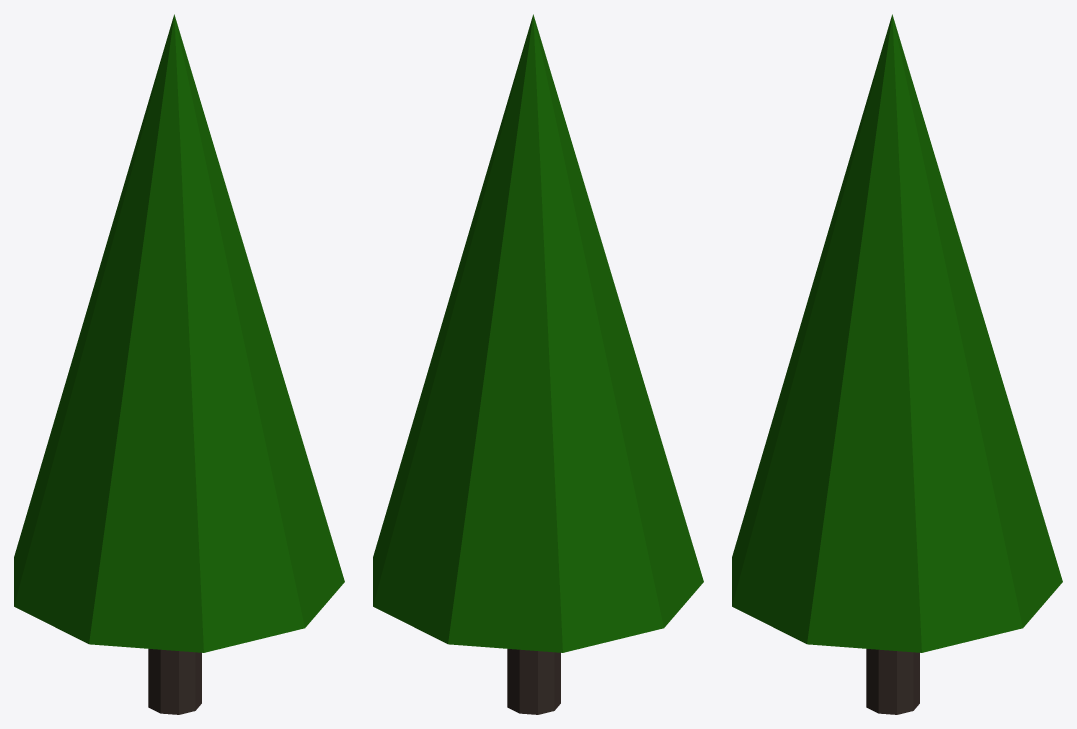
The model's file is Simple_Tree_6.fbx.
The picture shows the model from 3 angles, left to right: view 1: azimuth 30°, elevation 25°; view 2: azimuth 150°, elevation 25°; view 3: azimuth 270°, elevation 25°; orthographic projection.
Parts seen in each view (by area): view 1: Simple_Tree_6; view 2: Simple_Tree_6; view 3: Simple_Tree_6.
Boxes of the visible parts, x1=… form: Simple_Tree_6: x1=14, y1=14, x2=344, y2=714; Simple_Tree_6: x1=373, y1=14, x2=703, y2=714; Simple_Tree_6: x1=732, y1=14, x2=1062, y2=714.
Bounding box in the file's own units: 293 × 663 × 288.
